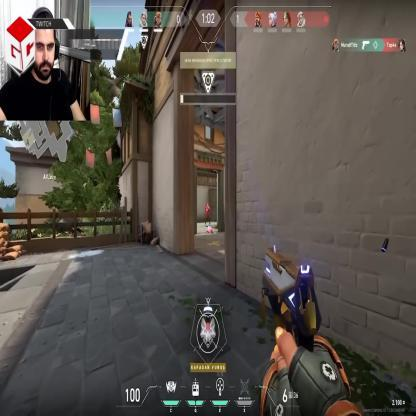enemy: (204, 202, 210, 225)
enemy_head: (206, 203, 209, 207)
